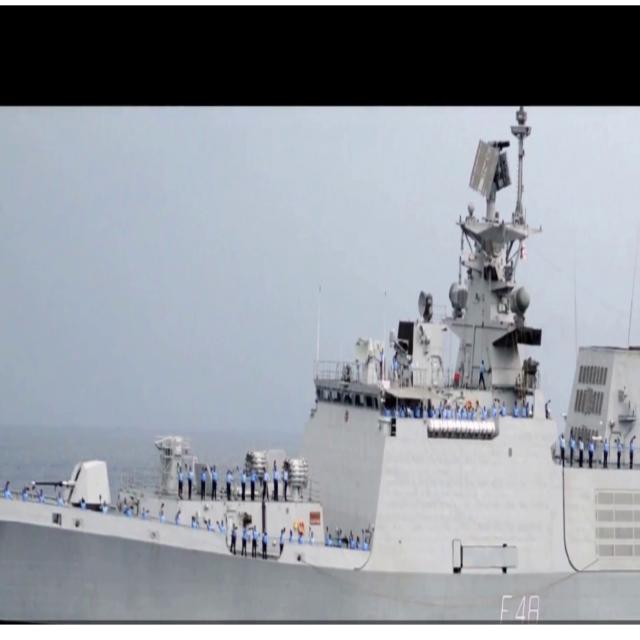OCR: (492, 587, 544, 624)
